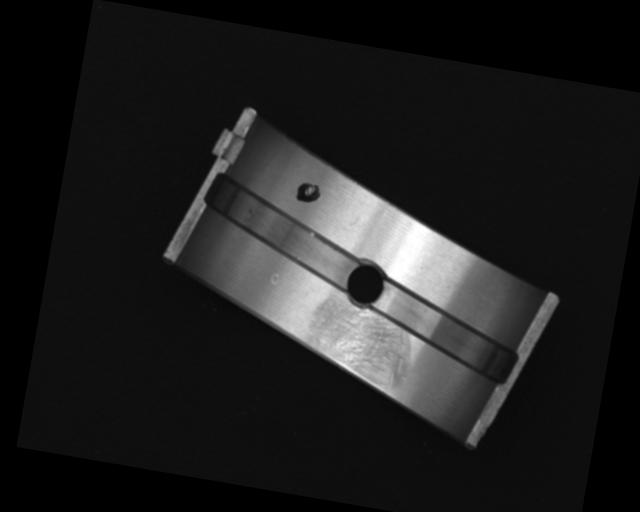blot: (293, 178, 324, 206)
bruise: (269, 270, 280, 286)
gap: (198, 177, 369, 292), (364, 281, 525, 384)
hole: (341, 257, 390, 310)
scratch: (303, 294, 420, 393)
